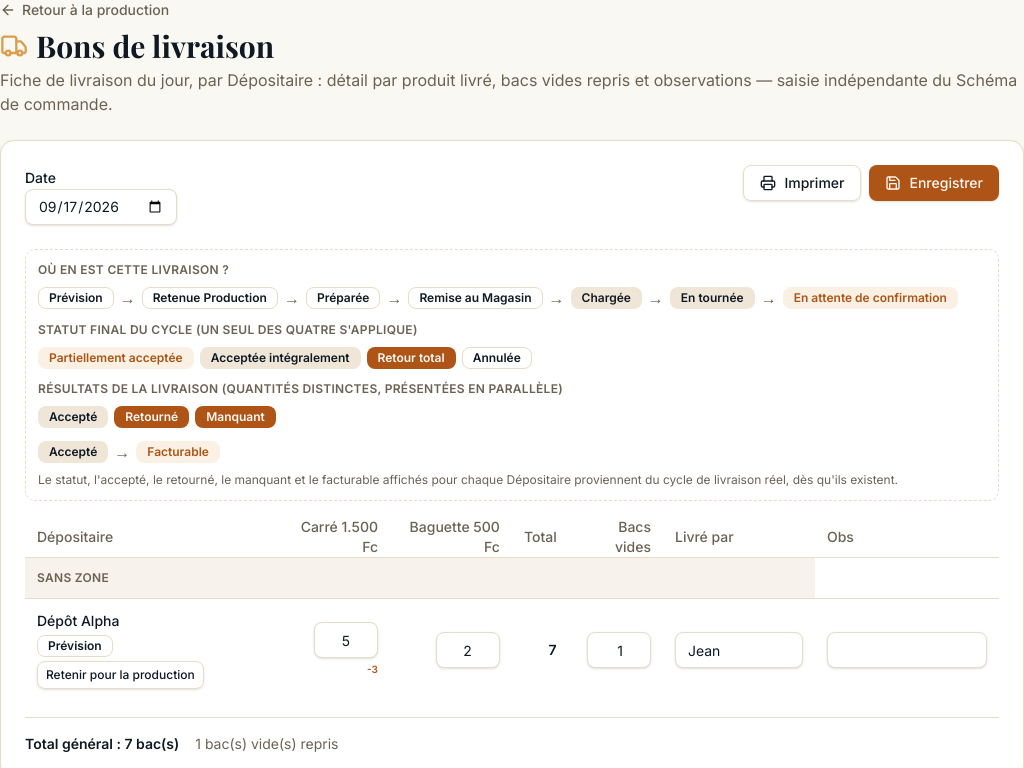
BonsLivraisonPage — DOM (F4 round 1) › le clic sur le bouton d'action ouvre le dialogue de la bonne action pour le bon client (F5A)
This screenshot has width=1024, height=768.
Expected: the table is shown, [25,517,999,701]
Click the button "Retenir pour la production".
click(120, 675)  # box [37,661,204,689]
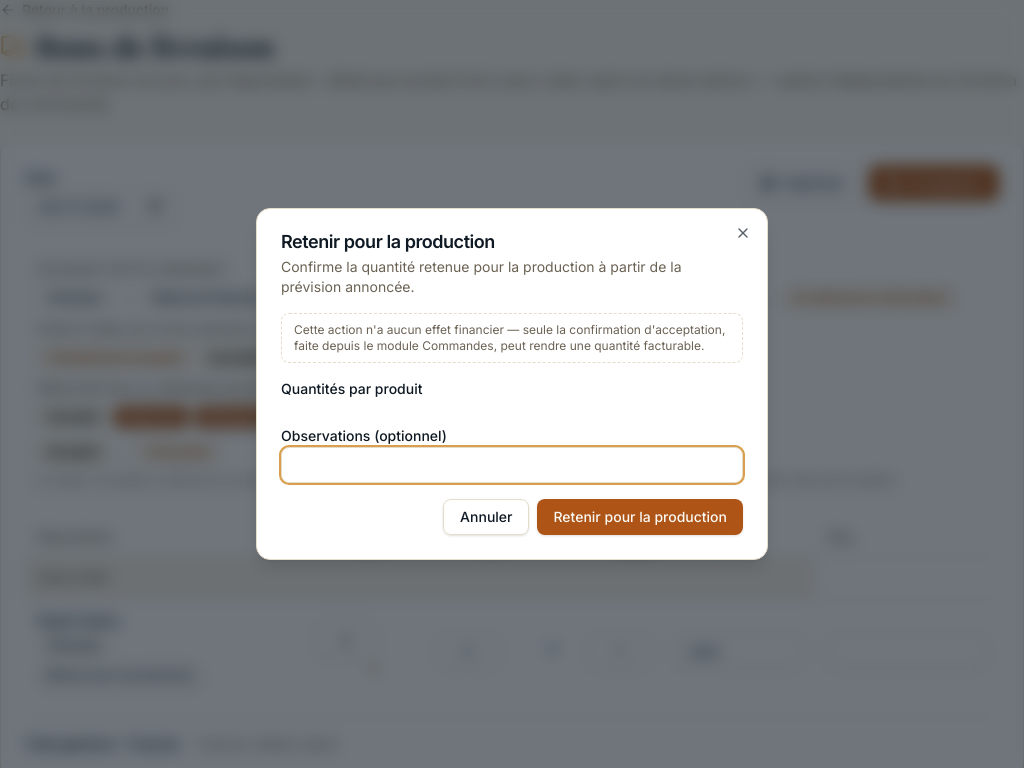
Now the heading "Retenir pour la production" is shown, box [281,231,495,252]
Now the text "prévision annoncée" is shown, box [281,258,682,295]
